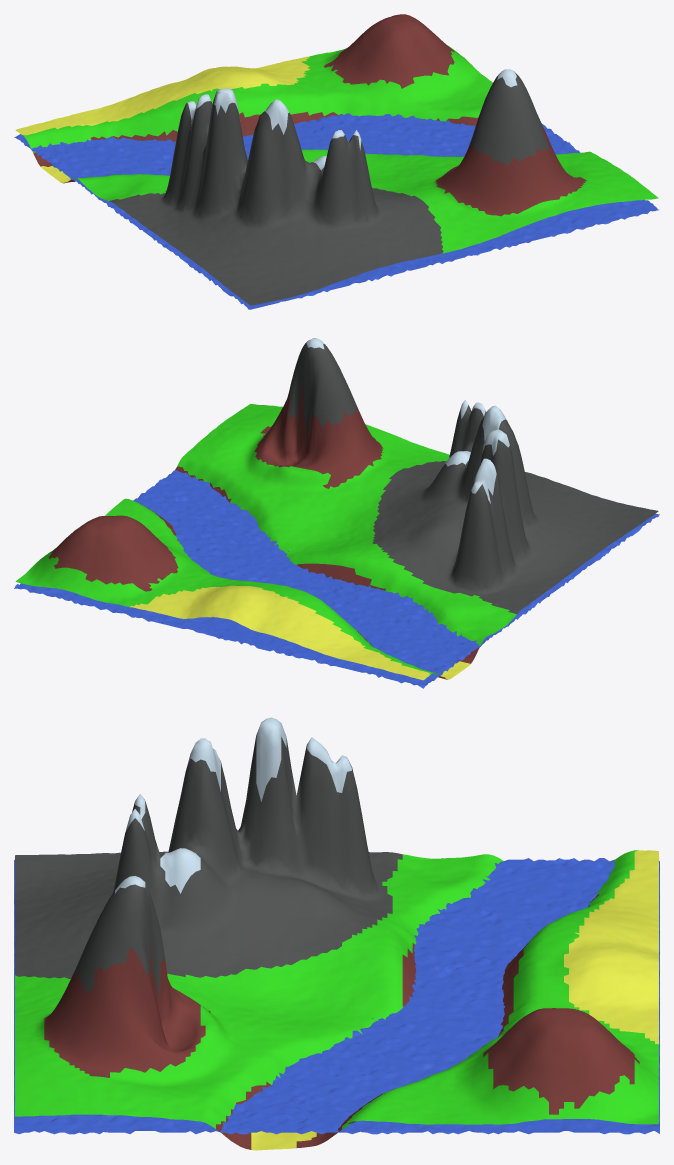
The model's file is BossKiller_Eloplemountant.fbx.
The picture shows the model from 3 angles, top to bottom: view 1: azimuth 30°, elevation 25°; view 2: azimuth 150°, elevation 25°; view 3: azimuth 270°, elevation 25°; orthographic projection. The views are drawn at different scales.
Parts seen in each view (by area): view 1: Ground, Water; view 2: Ground, Water; view 3: Ground, Water.
Part boxes in pixels (x1,y1,x2,y2): Ground: [15, 14, 658, 305]; Water: [14, 113, 659, 309]; Ground: [15, 338, 658, 680]; Water: [14, 468, 659, 688]; Ground: [15, 717, 658, 1150]; Water: [14, 858, 659, 1134].
Bounding box in the file's own units: 2000 × 708 × 2000.
